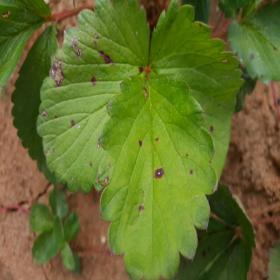Leaf Spot: (96, 70, 218, 279), (36, 0, 151, 196), (149, 0, 246, 189), (225, 1, 279, 86)
